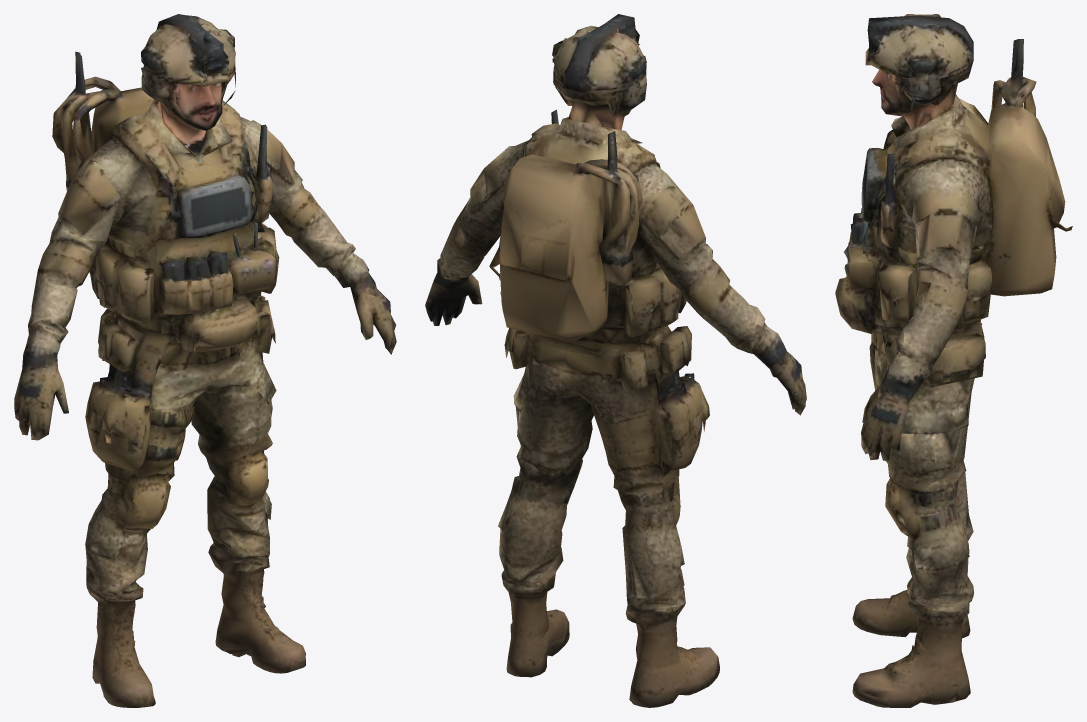
The model's file is soldier_iq_4.glb.
The picture shows the model from 3 angles, left to right: view 1: azimuth 30°, elevation 25°; view 2: azimuth 150°, elevation 25°; view 3: azimuth 270°, elevation 25°; orthographic projection.
Visible parts, largest first — view 1: geometry_0; view 2: geometry_0; view 3: geometry_0.
Boxes of the visible parts, <box> form: geometry_0: <box>14,14,396,707</box>; geometry_0: <box>425,14,806,707</box>; geometry_0: <box>835,14,1072,707</box>.
Bounding box in the file's own units: 0.6909 × 1.13 × 0.3781.
Materials: 1 (1 with a texture image).
